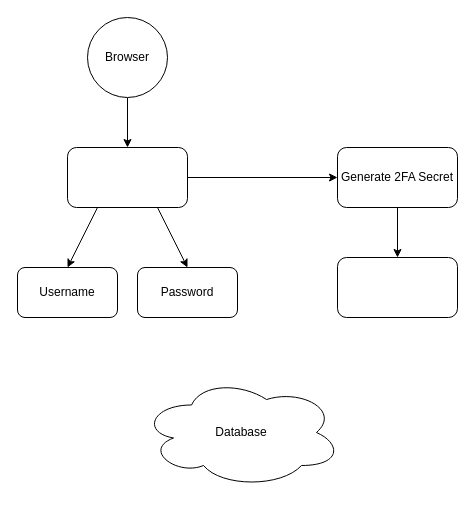
Some shapes in this 475 by 505 pixel diagram are drawn without their labels. Here are the shapes that lost their labels. From the top down, the centre of each, then its label:
(x=127, y=177): User create request
(x=397, y=287): Encrypt
